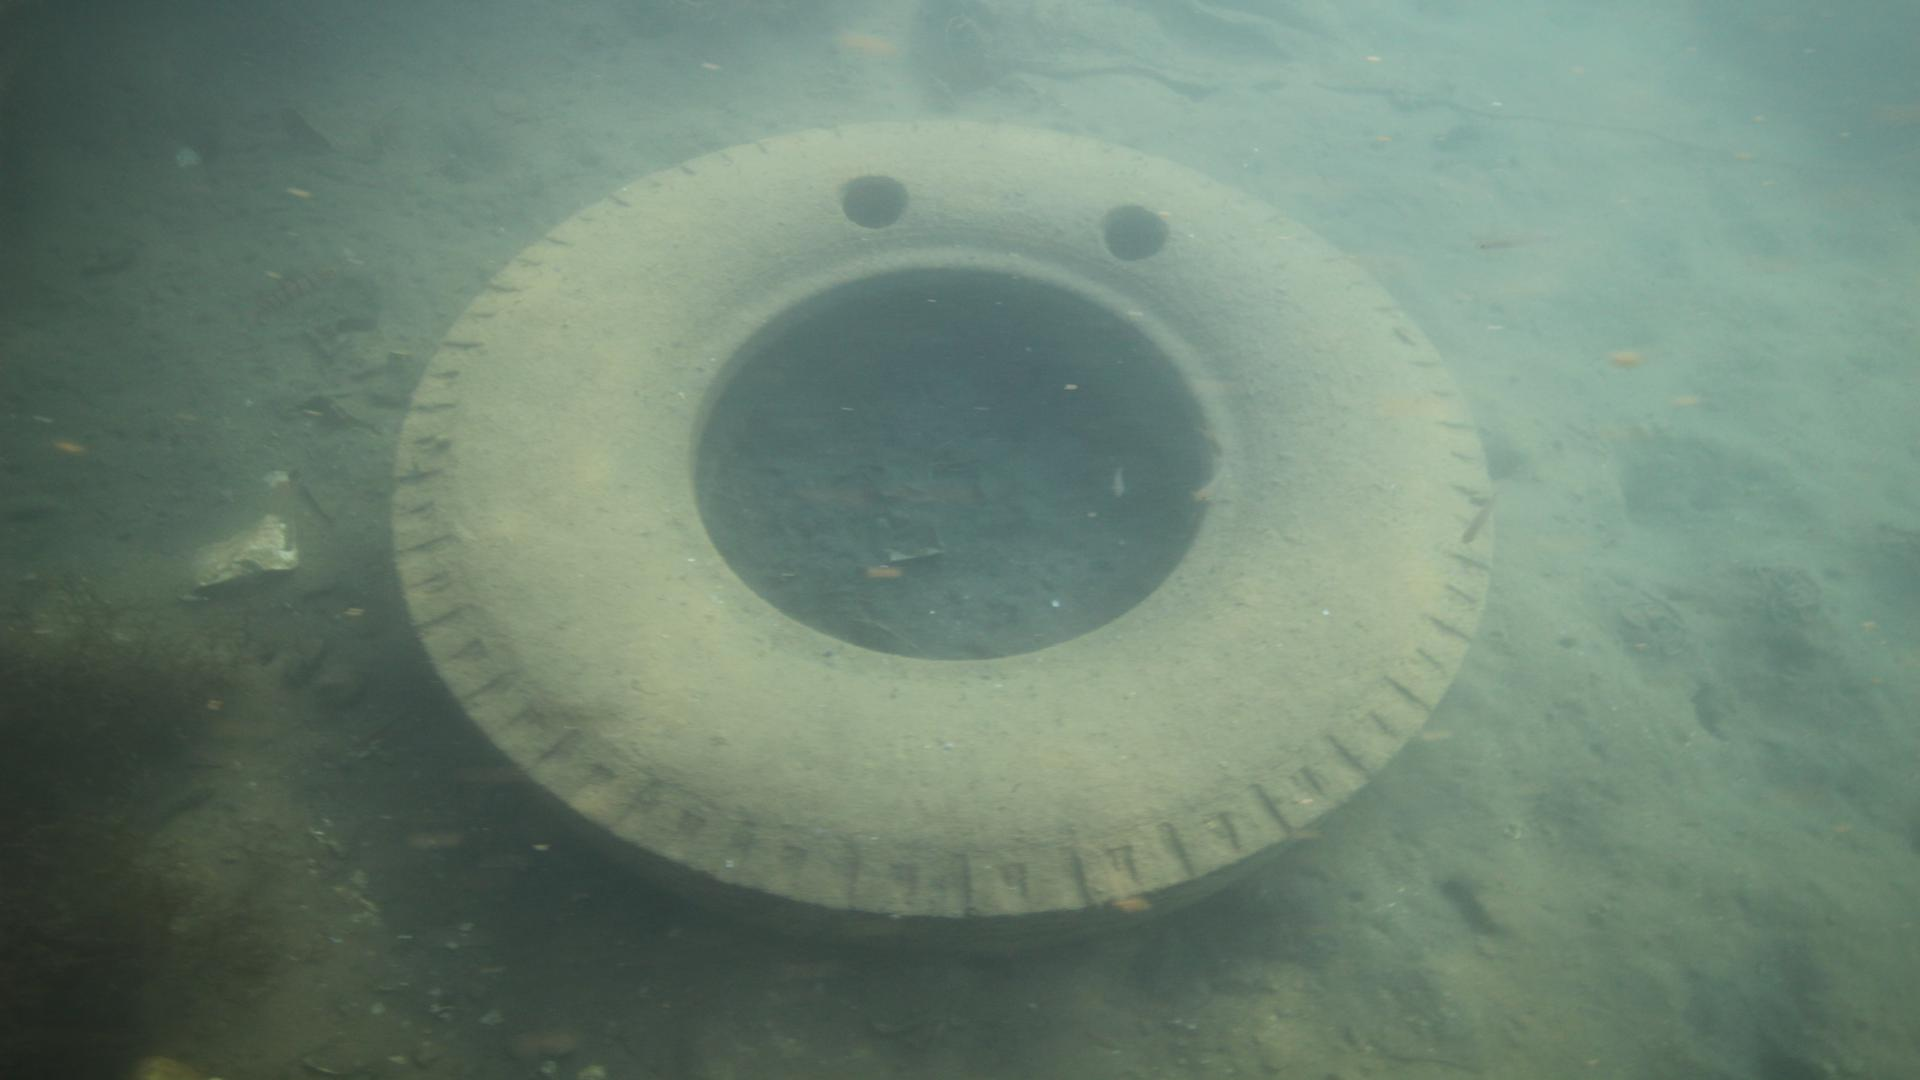tire: (386, 113, 1495, 953)
